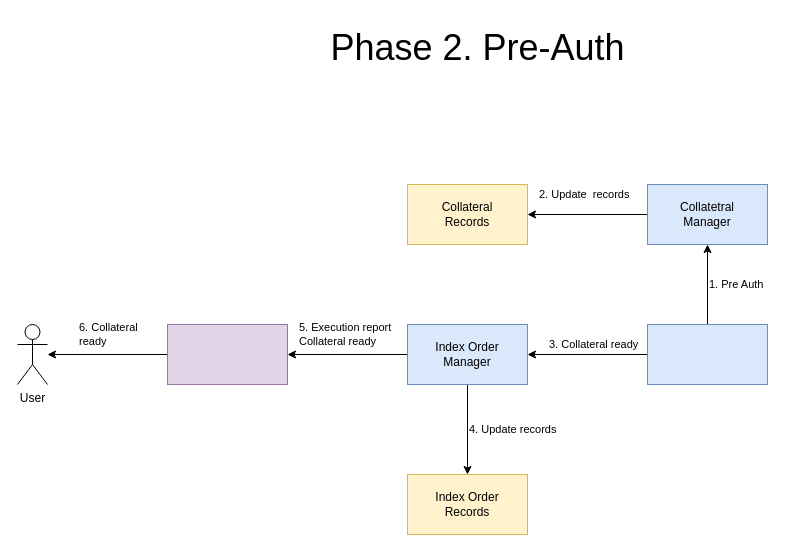
Some shapes in this 785 by 552 pixel diagram are drawn without their labels. The shapes that lost their labels are listed below. From the top down, each one's box as (x1, y1, x2, y2) in pixels, then its label:
(166, 324, 288, 384): FIX JSON
(646, 324, 768, 384): Solver
